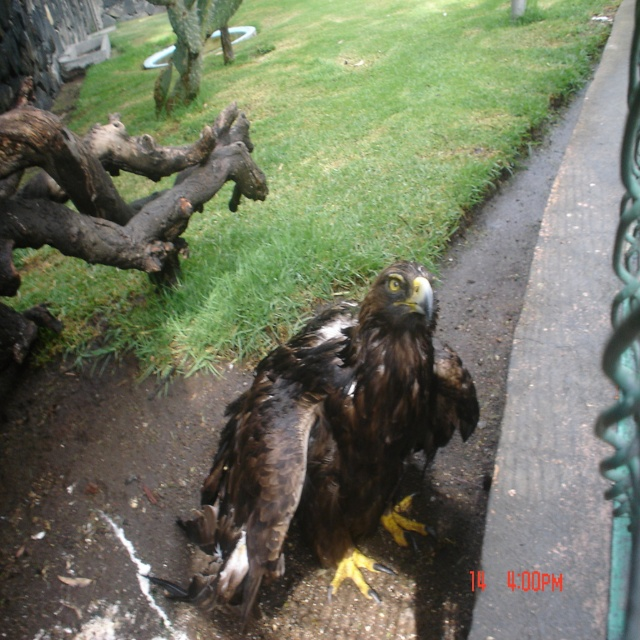Eagle: (141, 256, 483, 633)
